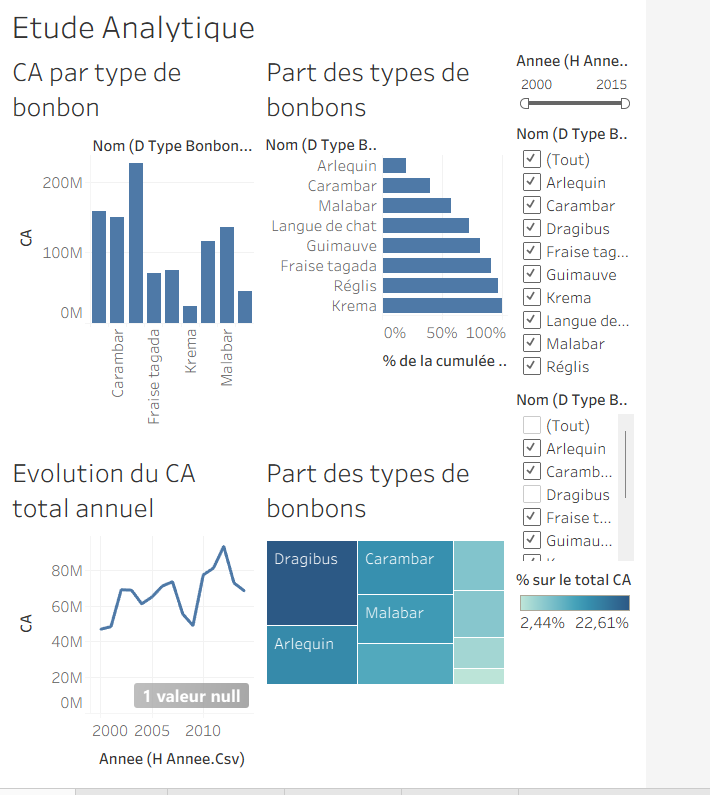

Layout of this report page (visuals, bound fields, positions):
{"tool":"tableau","page":{"name":"Tableau de bord 1","canvas":[1600,900],"ordinal":0},"visuals":[{"type":"text","box":[8,8,1584,59.7]},{"type":"worksheet","title":"Feuille 3","mark":"Automatic","box":[8,67.7,1584,121.3]},{"type":"worksheet","title":"Feuille 4","mark":"Automatic","rows":["CA"],"cols":["nom"],"box":[8,189,712,703]},{"type":"worksheet","title":"Feuille 2","mark":"Automatic","rows":["CA"],"cols":["annee (h_annee.csv)"],"box":[720,189,712,351.5]},{"type":"filter","title":"Feuille 2","param":"[federated.0wz7fi00tiemkr16s2w0i0qhiq9n].[none:libelle:nk]","box":[1432,189,160,157.5]},{"type":"filter","title":"Feuille 2","param":"[federated.0wz7fi00tiemkr16s2w0i0qhiq9n].[none:region:nk]","box":[1432,346.5,160,157.5]},{"type":"filter","title":"Feuille 4","param":"[federated.0wz7fi00tiemkr16s2w0i0qhiq9n].[none:nom:nk]","box":[1432,504,160,157.5]},{"type":"worksheet","title":"Feuille 12","mark":"Bar","rows":["nom"],"box":[720,540.5,712,351.5]},{"type":"filter","title":"Feuille 12","param":"[federated.0wz7fi00tiemkr16s2w0i0qhiq9n].[none:annee (h_annee.csv):qk]","box":[1432,661.5,160,73]},{"type":"filter","title":"Feuille 12","param":"[federated.0wz7fi00tiemkr16s2w0i0qhiq9n].[none:evenements:nk]","box":[1432,734.5,160,157.5]}]}

Visuals, with their boxes on the page's 1600x900 design canvas (x1, y1, x2, y2). These are canvas units, not pixel positions in the 710x795 screenshot, which may show the page scaled, cropped or inside an application window:
text: BBox(8, 8, 1592, 68)
"Feuille 3" worksheet: BBox(8, 68, 1592, 189)
"Feuille 4" worksheet: BBox(8, 189, 720, 892)
"Feuille 2" worksheet: BBox(720, 189, 1432, 540)
"Feuille 2" filter: BBox(1432, 189, 1592, 346)
"Feuille 2" filter: BBox(1432, 346, 1592, 504)
"Feuille 4" filter: BBox(1432, 504, 1592, 662)
"Feuille 12" worksheet (Bar marks): BBox(720, 540, 1432, 892)
"Feuille 12" filter: BBox(1432, 662, 1592, 734)
"Feuille 12" filter: BBox(1432, 734, 1592, 892)
